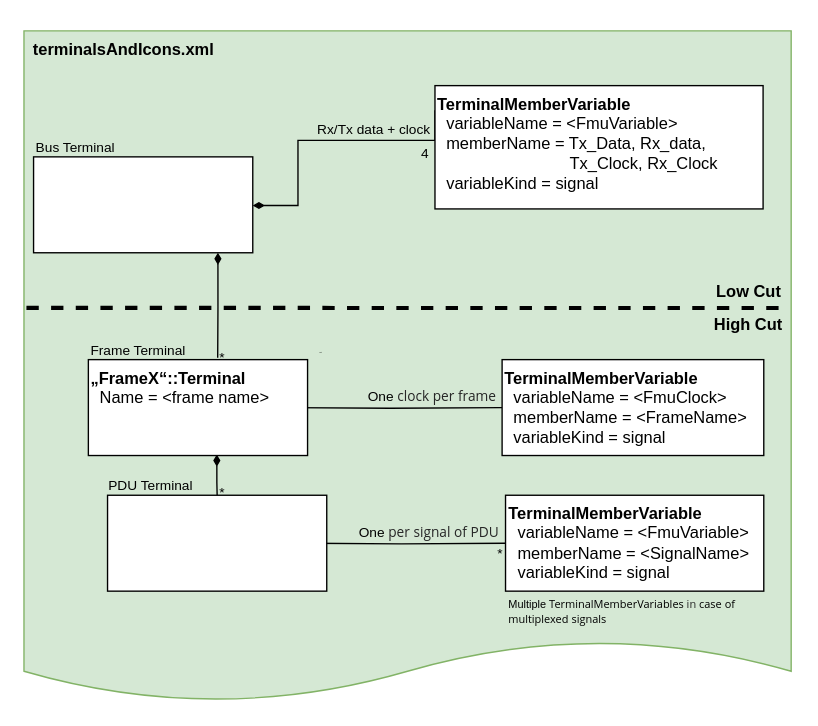
Image size: 818x726. Some labels were removed from this diagram. Here are the shapes that lost their labels. From the top down, the centre of each, then its label:
At point (142, 204): "„ NetworkX “ ::Terminal Name = <network name >".
At point (216, 542): "„PduX“::Terminal Name = <PDU name>".
